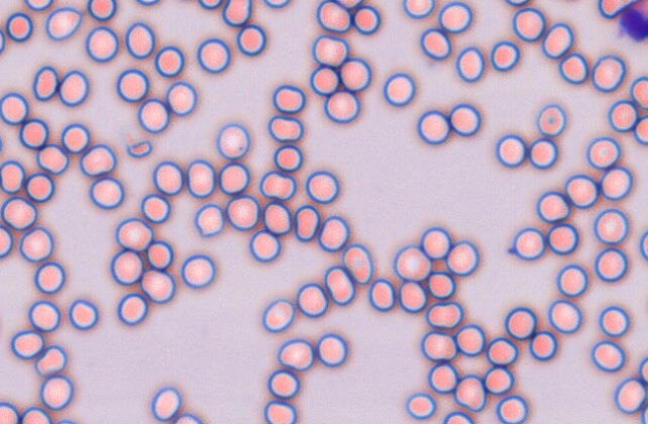RBC: (392, 245, 431, 281), (593, 208, 629, 245), (591, 54, 626, 92), (341, 243, 373, 284), (225, 194, 260, 231), (115, 217, 153, 251), (216, 122, 250, 160), (323, 265, 355, 305), (19, 226, 54, 262), (0, 196, 37, 230), (45, 6, 82, 40), (79, 143, 116, 177), (311, 34, 349, 67), (277, 338, 315, 371), (564, 173, 599, 208), (39, 374, 73, 410), (445, 240, 479, 276), (85, 26, 119, 62), (196, 37, 230, 73), (613, 377, 646, 414), (453, 374, 486, 411), (323, 90, 360, 123), (185, 159, 216, 198), (140, 269, 175, 303), (594, 247, 628, 282), (180, 254, 215, 288), (547, 299, 582, 333), (416, 109, 450, 144), (315, 0, 351, 33), (110, 249, 143, 285), (317, 215, 349, 252), (541, 22, 573, 59), (258, 170, 296, 201), (599, 166, 633, 200), (261, 298, 295, 332), (305, 170, 339, 204), (511, 227, 546, 260), (89, 176, 124, 209), (586, 136, 621, 169), (420, 330, 456, 362), (58, 69, 89, 106), (125, 21, 155, 59), (512, 7, 545, 41), (536, 190, 570, 223), (382, 72, 415, 106), (116, 68, 149, 102), (152, 160, 184, 195), (438, 1, 473, 33), (150, 386, 182, 421), (590, 340, 625, 372), (165, 81, 197, 116), (296, 282, 328, 317), (137, 98, 169, 133), (425, 300, 463, 329), (339, 57, 371, 91), (218, 161, 250, 195), (556, 263, 588, 297), (504, 306, 536, 340), (455, 46, 485, 82), (34, 345, 67, 377), (36, 143, 69, 175), (28, 300, 61, 332), (495, 134, 527, 167), (449, 103, 481, 136), (261, 201, 292, 235), (316, 333, 347, 367), (419, 28, 451, 60), (598, 305, 630, 337), (249, 229, 280, 262), (420, 226, 451, 259), (607, 99, 638, 132), (34, 261, 65, 294), (117, 292, 148, 325), (10, 329, 44, 359), (194, 203, 224, 237), (272, 84, 306, 114), (536, 103, 566, 137), (293, 204, 320, 241), (397, 280, 427, 313), (485, 336, 518, 366), (455, 323, 485, 356), (267, 115, 303, 142), (427, 362, 458, 393), (547, 223, 578, 254), (267, 369, 299, 399), (236, 24, 266, 56), (558, 52, 588, 84), (528, 137, 558, 169), (154, 45, 184, 77), (495, 394, 528, 423), (0, 92, 29, 125), (32, 65, 58, 101), (19, 118, 49, 149), (60, 122, 90, 153), (490, 40, 520, 71), (68, 299, 98, 330), (368, 278, 396, 311), (309, 65, 339, 95), (140, 193, 170, 223), (0, 159, 25, 194), (25, 172, 54, 202), (483, 366, 514, 394), (404, 392, 436, 419), (273, 144, 303, 172), (529, 330, 557, 360), (5, 12, 33, 41), (146, 240, 173, 270), (427, 271, 455, 299), (222, 0, 251, 27), (353, 5, 380, 34), (263, 400, 297, 423), (629, 75, 647, 109), (87, 0, 116, 21), (402, 0, 434, 19), (20, 406, 52, 423), (0, 224, 13, 258), (633, 115, 647, 145), (0, 401, 19, 423), (442, 410, 474, 423), (172, 412, 203, 423), (23, 0, 53, 11), (638, 356, 648, 383), (639, 229, 647, 261), (262, 0, 291, 8), (197, 0, 222, 9), (337, 0, 363, 8), (504, 0, 531, 6), (640, 404, 648, 423), (135, 0, 160, 6), (0, 28, 5, 53), (55, 418, 76, 423), (0, 133, 4, 155), (176, 0, 196, 2)
Schistocyte: (595, 0, 643, 19), (126, 140, 151, 158)
